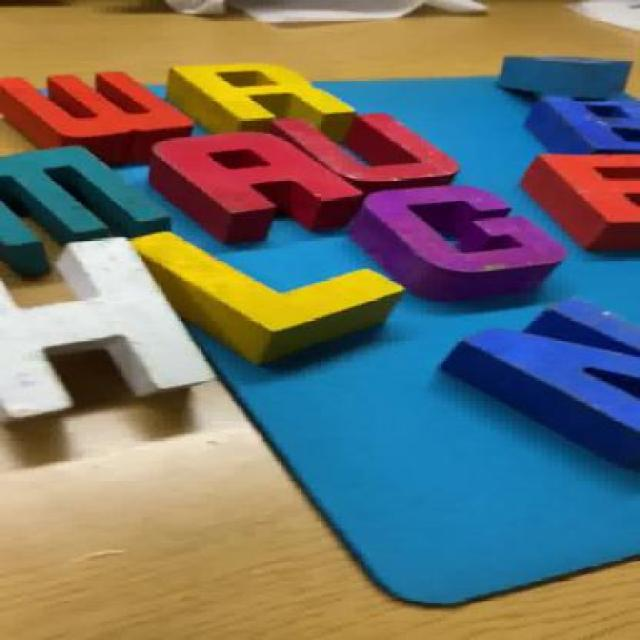A: (147, 128, 356, 240)
B: (521, 91, 640, 150)
G: (360, 183, 552, 294)
H: (0, 241, 217, 425)
L: (131, 229, 397, 365)
M: (0, 146, 198, 261)
R: (174, 60, 354, 122)
U: (281, 108, 465, 190)
W: (1, 67, 182, 158)
